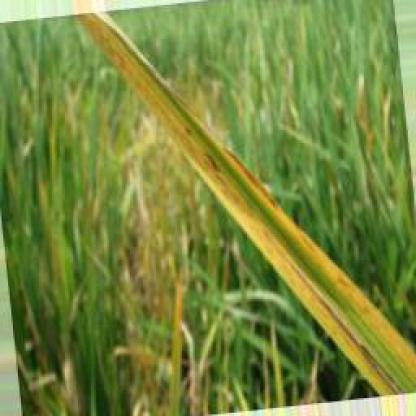Tungro: (73, 4, 413, 393)
